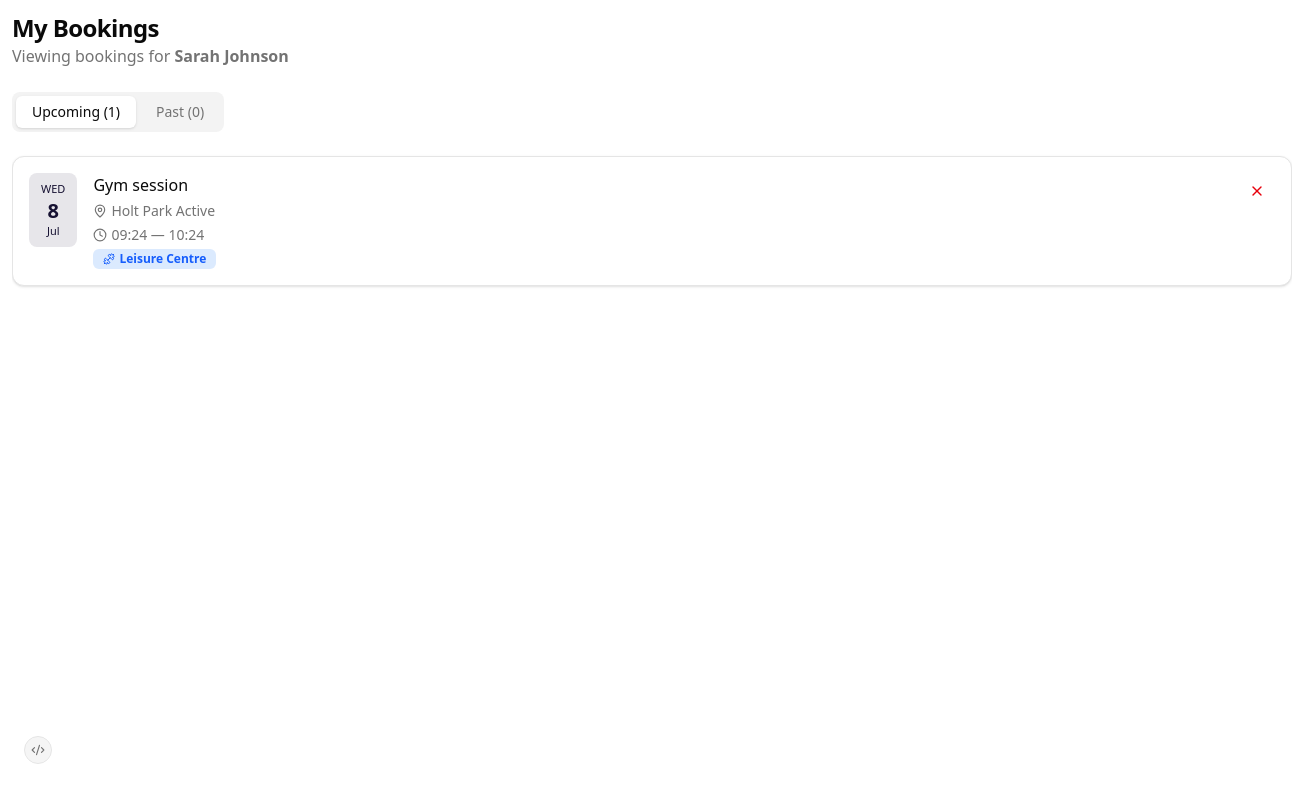
MyBookingsPage › shows the past-empty state on the Past tab with no past bookings
The width and height of the screenshot is (1292, 812).
Check: the text "Gym session" is shown, box [93,173,188,197]
Click the button "Past (0)" at (180, 112), box [140,96,220,128]
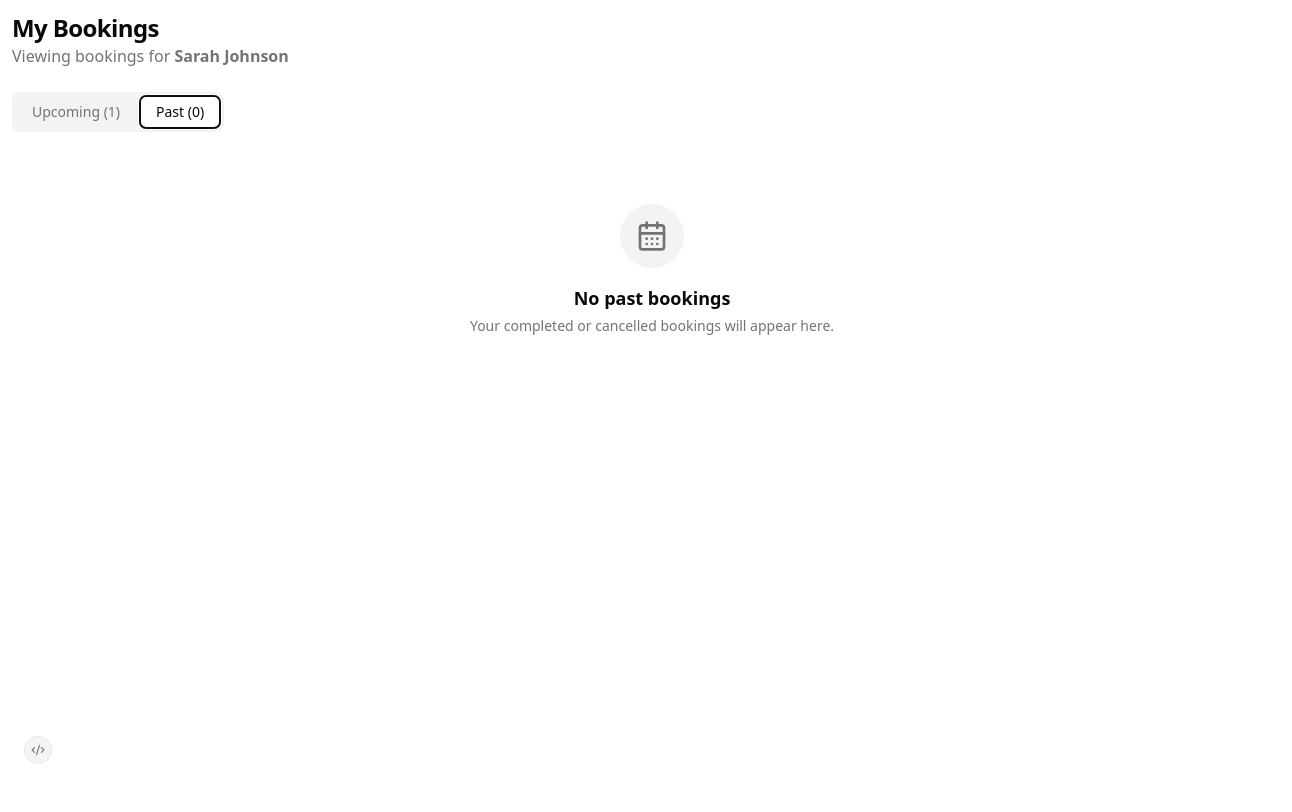
Check: the heading "No past bookings" is shown, box [574,284,730,312]
